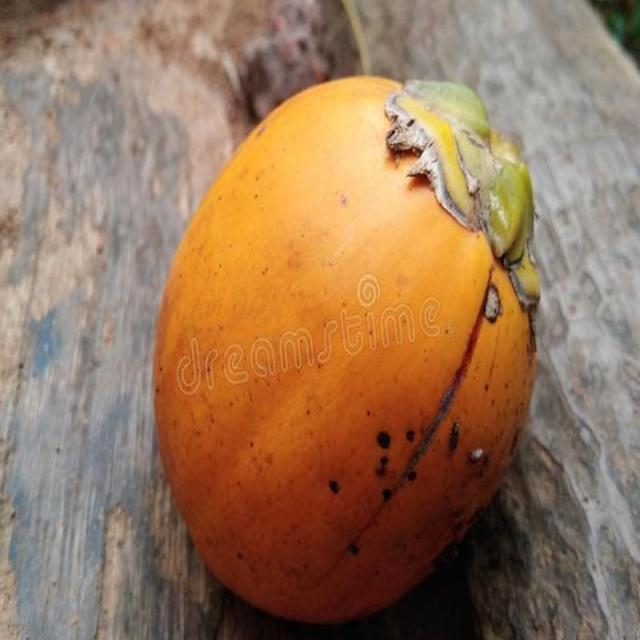good: (151, 76, 539, 628)
